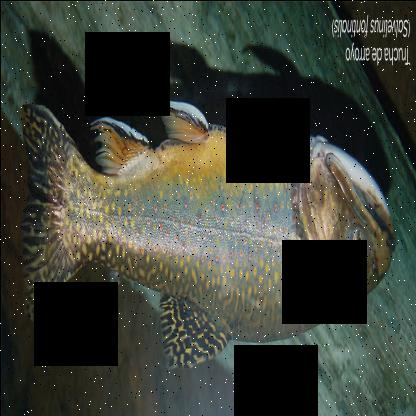fish: (20, 93, 394, 374)
